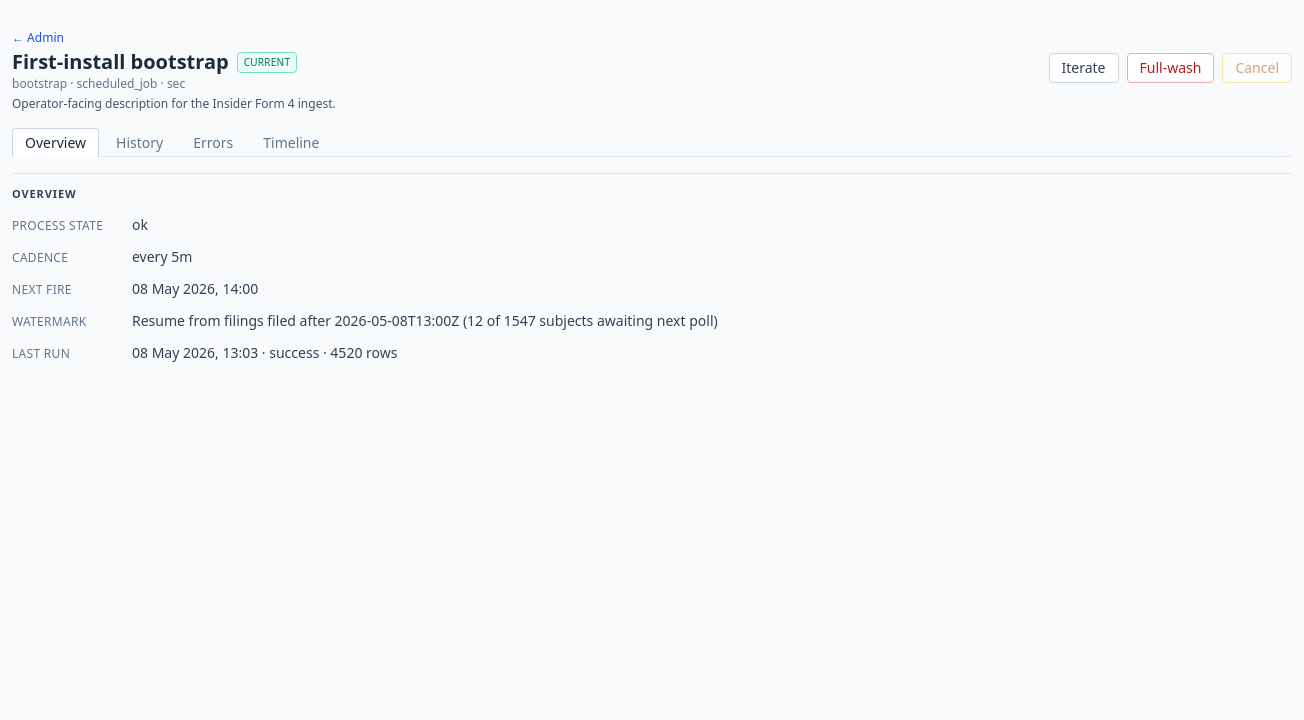
Test: ProcessDetailPage — Timeline tab (bootstrap) › renders an amber warning chip on a success+rows=0 strict-cap stage
Click the tab "Timeline" at (291, 142), box 250,128 -> 332,157
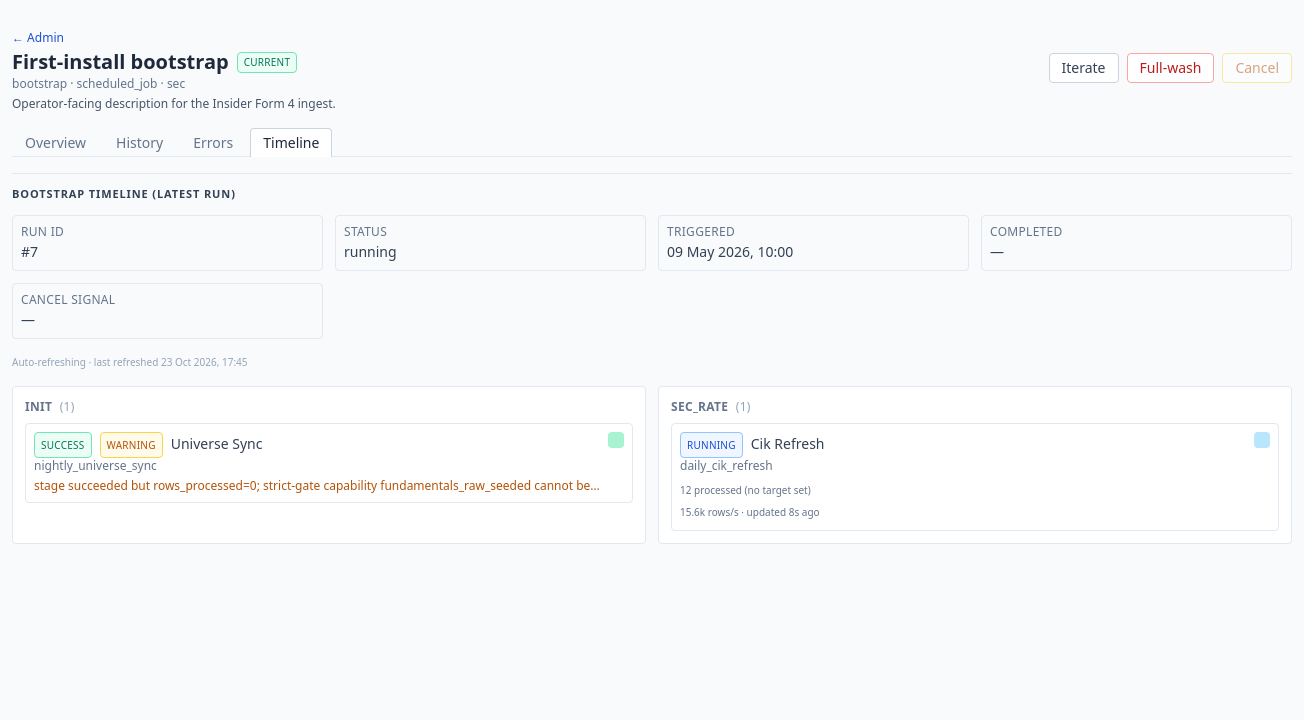
Check: the text "warning" is shown, box 100,432 -> 163,458
